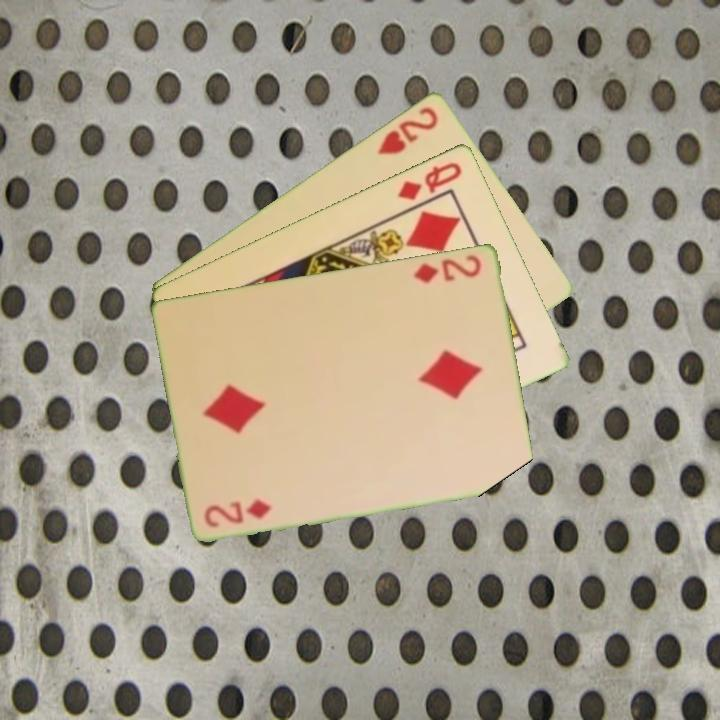2d: (201, 494, 275, 530), (411, 251, 485, 285)
2h: (374, 102, 442, 157)
Qd: (394, 157, 465, 203)
